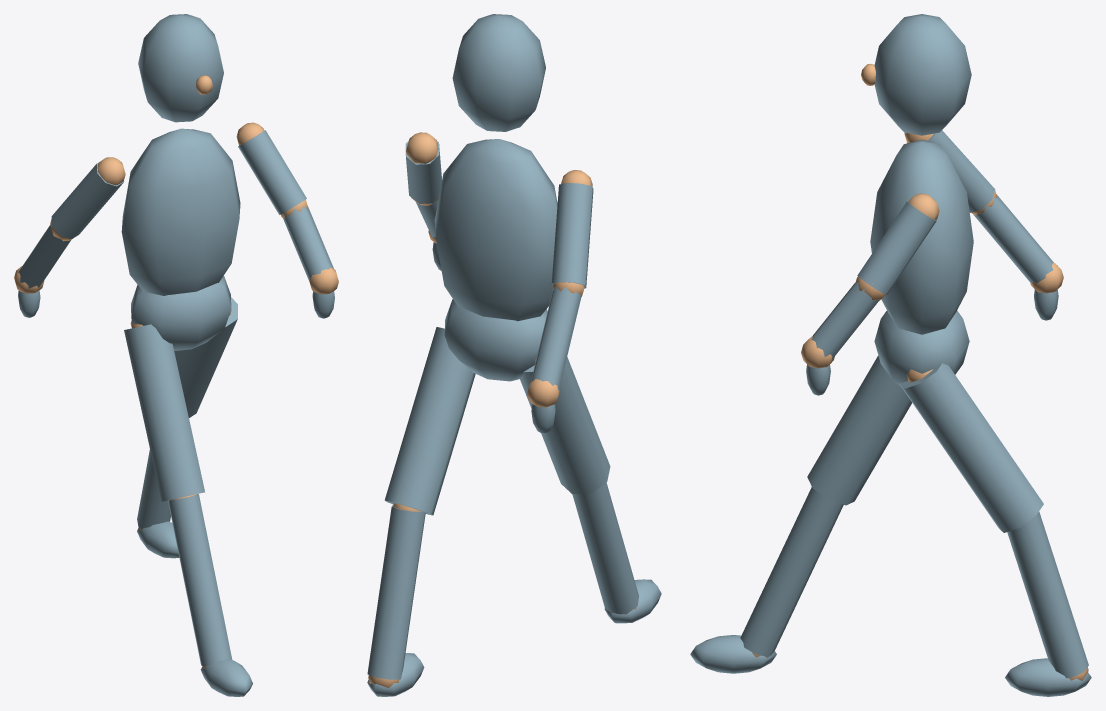
The model's file is pose-walking-3d.glb.
3 views of the same model, side by side, from view 1: azimuth 30°, elevation 25°; view 2: azimuth 150°, elevation 25°; view 3: azimuth 270°, elevation 25° (orthographic). The views are drawn at different scales.
Parts seen in each view (by area): view 1: rib-cage, left-thigh, head, left-shin, pelvis, right-upper-arm, right-thigh, left-upper-arm, right-forearm, left-forearm, foot-la, right-shin (+3 smaller); view 2: rib-cage, head, right-thigh, right-shin, pelvis, left-thigh, left-shin, left-upper-arm, left-forearm, right-upper-arm, foot-la, foot-ra (+3 smaller); view 3: rib-cage, right-thigh, head, left-thigh, left-shin, right-shin, pelvis, right-upper-arm, left-forearm, right-forearm, foot-la, foot-ra (+2 smaller).
Boxes of the visible parts, box(x1,y1,x2,y2) form: rib-cage: box(121, 128, 240, 295); left-thigh: box(124, 324, 204, 501); head: box(138, 14, 223, 122); left-shin: box(168, 494, 232, 665); pelvis: box(131, 276, 231, 350); right-upper-arm: box(238, 130, 306, 214); right-thigh: box(174, 297, 237, 417); left-upper-arm: box(51, 161, 124, 239); right-forearm: box(283, 206, 333, 281); left-forearm: box(18, 224, 70, 288); foot-la: box(200, 658, 252, 696); right-shin: box(137, 450, 170, 529); rib-cage: box(434, 139, 557, 321); head: box(452, 14, 545, 131); right-thigh: box(384, 327, 475, 515); right-shin: box(367, 504, 425, 679); pelvis: box(444, 299, 547, 381); left-thigh: box(520, 357, 610, 494); left-shin: box(572, 482, 638, 614); left-upper-arm: box(551, 183, 593, 288); left-forearm: box(531, 285, 581, 390); right-upper-arm: box(405, 141, 441, 203); foot-la: box(604, 579, 661, 623); foot-ra: box(367, 653, 424, 696); rib-cage: box(870, 139, 973, 334); right-thigh: box(899, 363, 1043, 532); head: box(874, 14, 971, 135); left-thigh: box(807, 355, 911, 505); left-shin: box(740, 487, 843, 656); right-shin: box(1007, 511, 1088, 678); pelvis: box(874, 310, 969, 386); right-upper-arm: box(857, 201, 936, 294); left-forearm: box(974, 194, 1053, 284); right-forearm: box(811, 282, 879, 359); foot-la: box(690, 635, 776, 673); foot-ra: box(1005, 658, 1091, 696).
Bounding box in the file's own units: 0.685 × 1.8 × 0.97.
